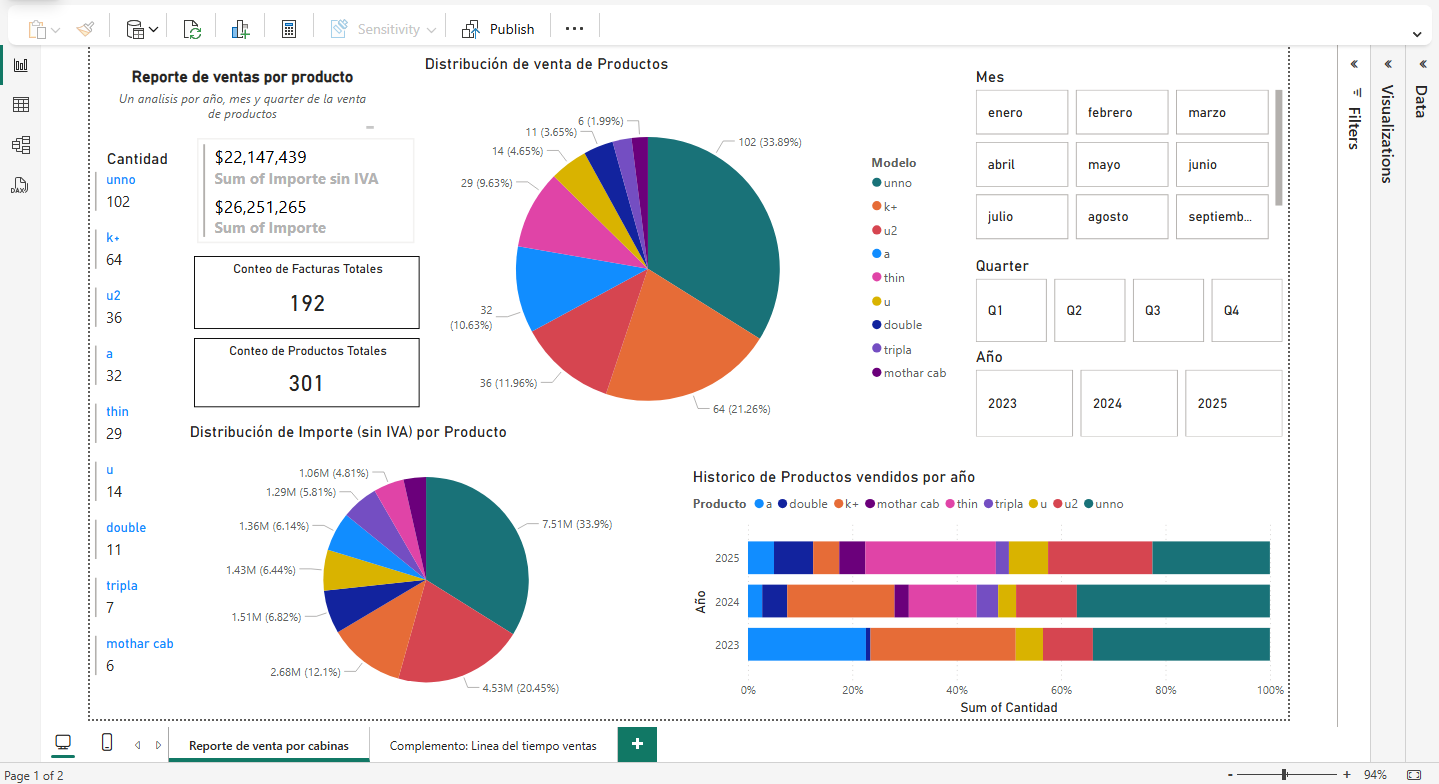

The page's visual inventory and layout, read from the dashboard file:
{"tool":"powerbi","page":{"name":"Reporte de venta por cabinas","canvas":[1280,720],"ordinal":0},"visuals":[{"type":"pieChart","title":"Distribución de venta de Productos","fields":{"Category":["Tabla 1 (23_24_25).Cabina"],"Y":["Sum(Tabla 1 (23_24_25).Cantidad)"]},"box":[352.2,9.8,577.2,440.2],"z":0},{"type":"pieChart","title":"Distribución de Importe (sin IVA) por Producto","fields":{"Category":["Tabla 1 (23_24_25).Cabina"],"Y":["Sum(Tabla 1 (23_24_25).Importe sin IVA)"]},"box":[101.4,402.4,515.1,317.8],"z":1000},{"type":"advancedSlicerVisual","fields":{"Values":["Tabla 1 (23_24_25).Mes"]},"box":[941.3,23.3,338.9,189.4],"z":2000},{"type":"advancedSlicerVisual","fields":{"Values":["Tabla 1 (23_24_25).Quarter"]},"box":[941.3,225,338.9,97.4],"z":3000},{"type":"advancedSlicerVisual","fields":{"Values":["Tabla 1 (23_24_25).Año"]},"box":[941.3,322.5,338.9,101.5],"z":4000},{"type":"hundredPercentStackedBarChart","title":"Historico de Productos vendidos por año","fields":{"Category":["Tabla 1 (23_24_25).Año"],"Y":["Sum(Tabla 1 (23_24_25).Cantidad)"],"Series":["Tabla 1 (23_24_25).Cabina"]},"box":[638.6,450.4,641.7,269.6],"z":5000},{"type":"multiRowCard","title":"Cantidad","fields":{"Values":["Sum(Tabla 1 (23_24_25).Cantidad)","Tabla 1 (23_24_25).Cabina"]},"box":[0,111.6,101.4,608.6],"z":6000},{"type":"textbox","title":"Reporte de ventas por producto","box":[18,23.7,289.7,71],"z":7000},{"type":"multiRowCard","fields":{"Values":["Sum(Tabla 1 (23_24_25).Importe sin IVA)","Sum(Tabla 1 (23_24_25).Importe)"]},"box":[109.4,94.3,242.7,134.6],"z":8000},{"type":"card","title":"Conteo de Facturas Totales","fields":{"Values":["Tabla 1 (23_24_25).Conteo Cabinas"]},"box":[110.7,225.1,241.5,78],"z":9000},{"type":"card","title":"Conteo de Productos Totales","fields":{"Values":["Tabla 1 (23_24_25).Conteo de Cabinas"]},"box":[110.7,313.1,241.5,74.2],"z":10000}]}

Visuals, with their boxes on the page's 1280x720 design canvas (x1, y1, x2, y2). These are canvas units, not pixel positions in the 1439x784 screenshot, which may show the page scaled, cropped or inside an application window:
"Distribución de venta de Productos" pieChart: l=352, t=10, r=929, b=450
"Distribución de Importe (sin IVA) por Producto" pieChart: l=101, t=402, r=616, b=720
advancedSlicerVisual - Tabla 1 (23_24_25).Mes: l=941, t=23, r=1280, b=213
advancedSlicerVisual - Tabla 1 (23_24_25).Quarter: l=941, t=225, r=1280, b=322
advancedSlicerVisual - Tabla 1 (23_24_25).Año: l=941, t=322, r=1280, b=424
"Historico de Productos vendidos por año" hundredPercentStackedBarChart: l=639, t=450, r=1280, b=720
"Cantidad" multiRowCard: l=0, t=112, r=101, b=720
"Reporte de ventas por producto" textbox: l=18, t=24, r=308, b=95
multiRowCard - Sum(Tabla 1 (23_24_25).Importe sin IVA) x Sum(Tabla 1 (23_24_25).Importe): l=109, t=94, r=352, b=229
"Conteo de Facturas Totales" card: l=111, t=225, r=352, b=303
"Conteo de Productos Totales" card: l=111, t=313, r=352, b=387
